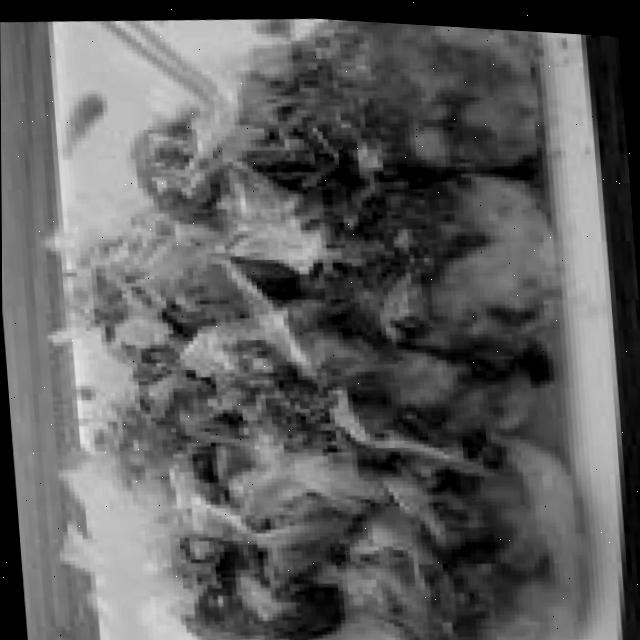炸货点心: (12, 1, 602, 640)
